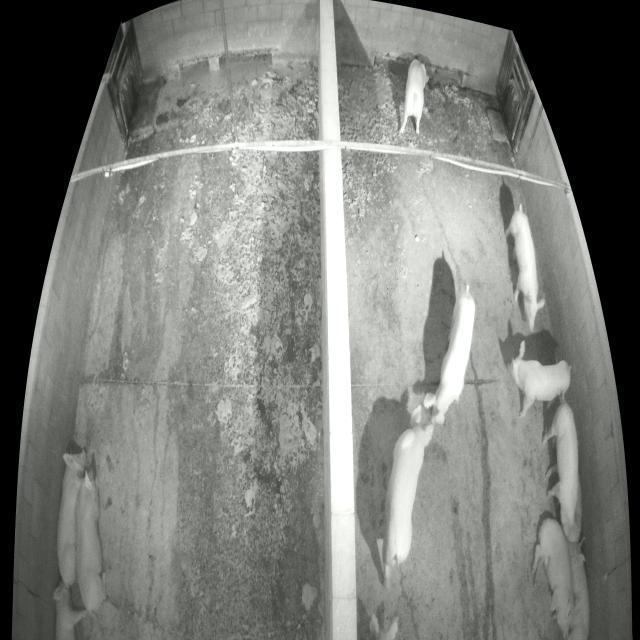pig: (384, 405, 434, 590), (424, 289, 475, 424), (530, 519, 582, 637), (506, 340, 570, 419), (505, 209, 545, 332), (75, 466, 107, 614), (543, 404, 578, 535), (56, 449, 88, 588), (399, 59, 429, 135), (568, 537, 590, 639), (53, 580, 87, 639), (370, 613, 397, 637), (574, 477, 582, 540)
